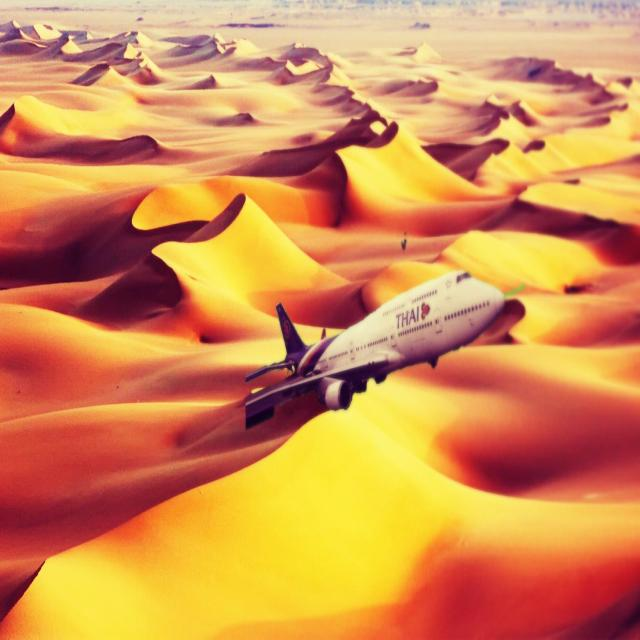airplane: (243, 268, 521, 428)
